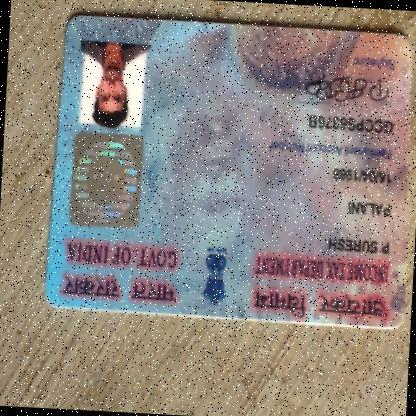pan_card: (34, 7, 415, 346)
